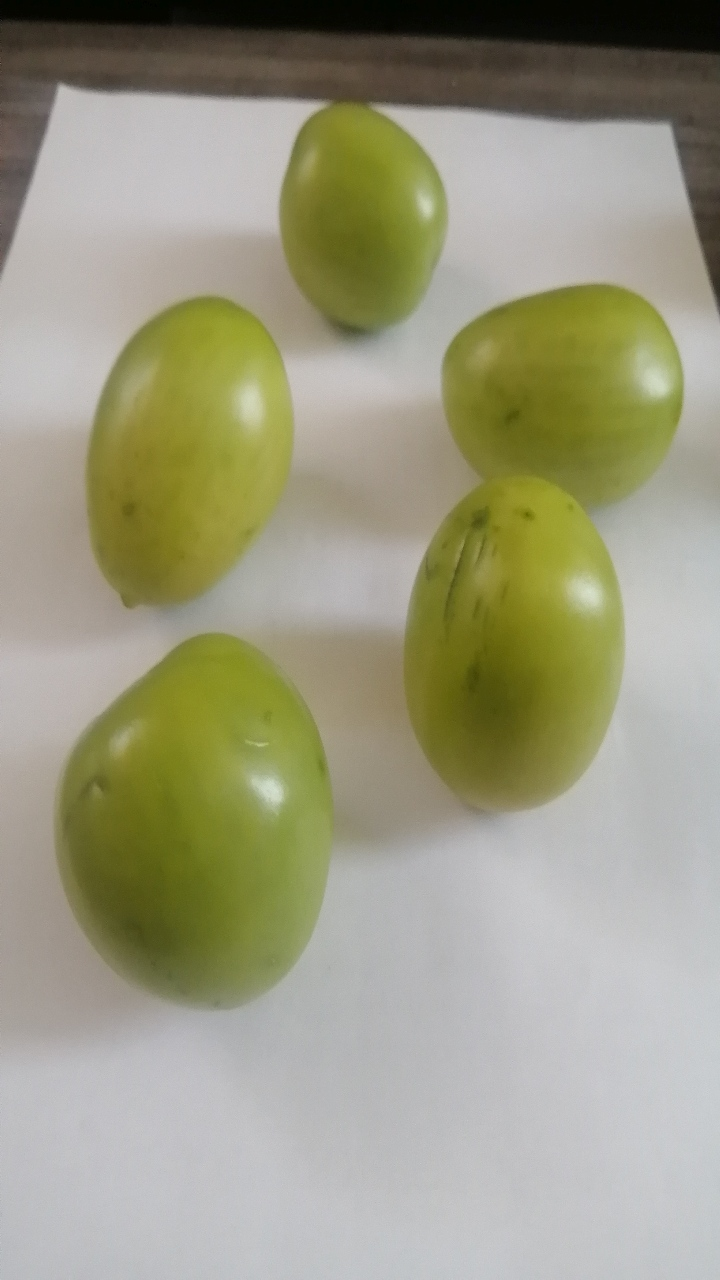tomateVerde: (48, 615, 361, 1019), (366, 466, 648, 843), (48, 275, 331, 640), (432, 265, 678, 506), (272, 83, 458, 346)
